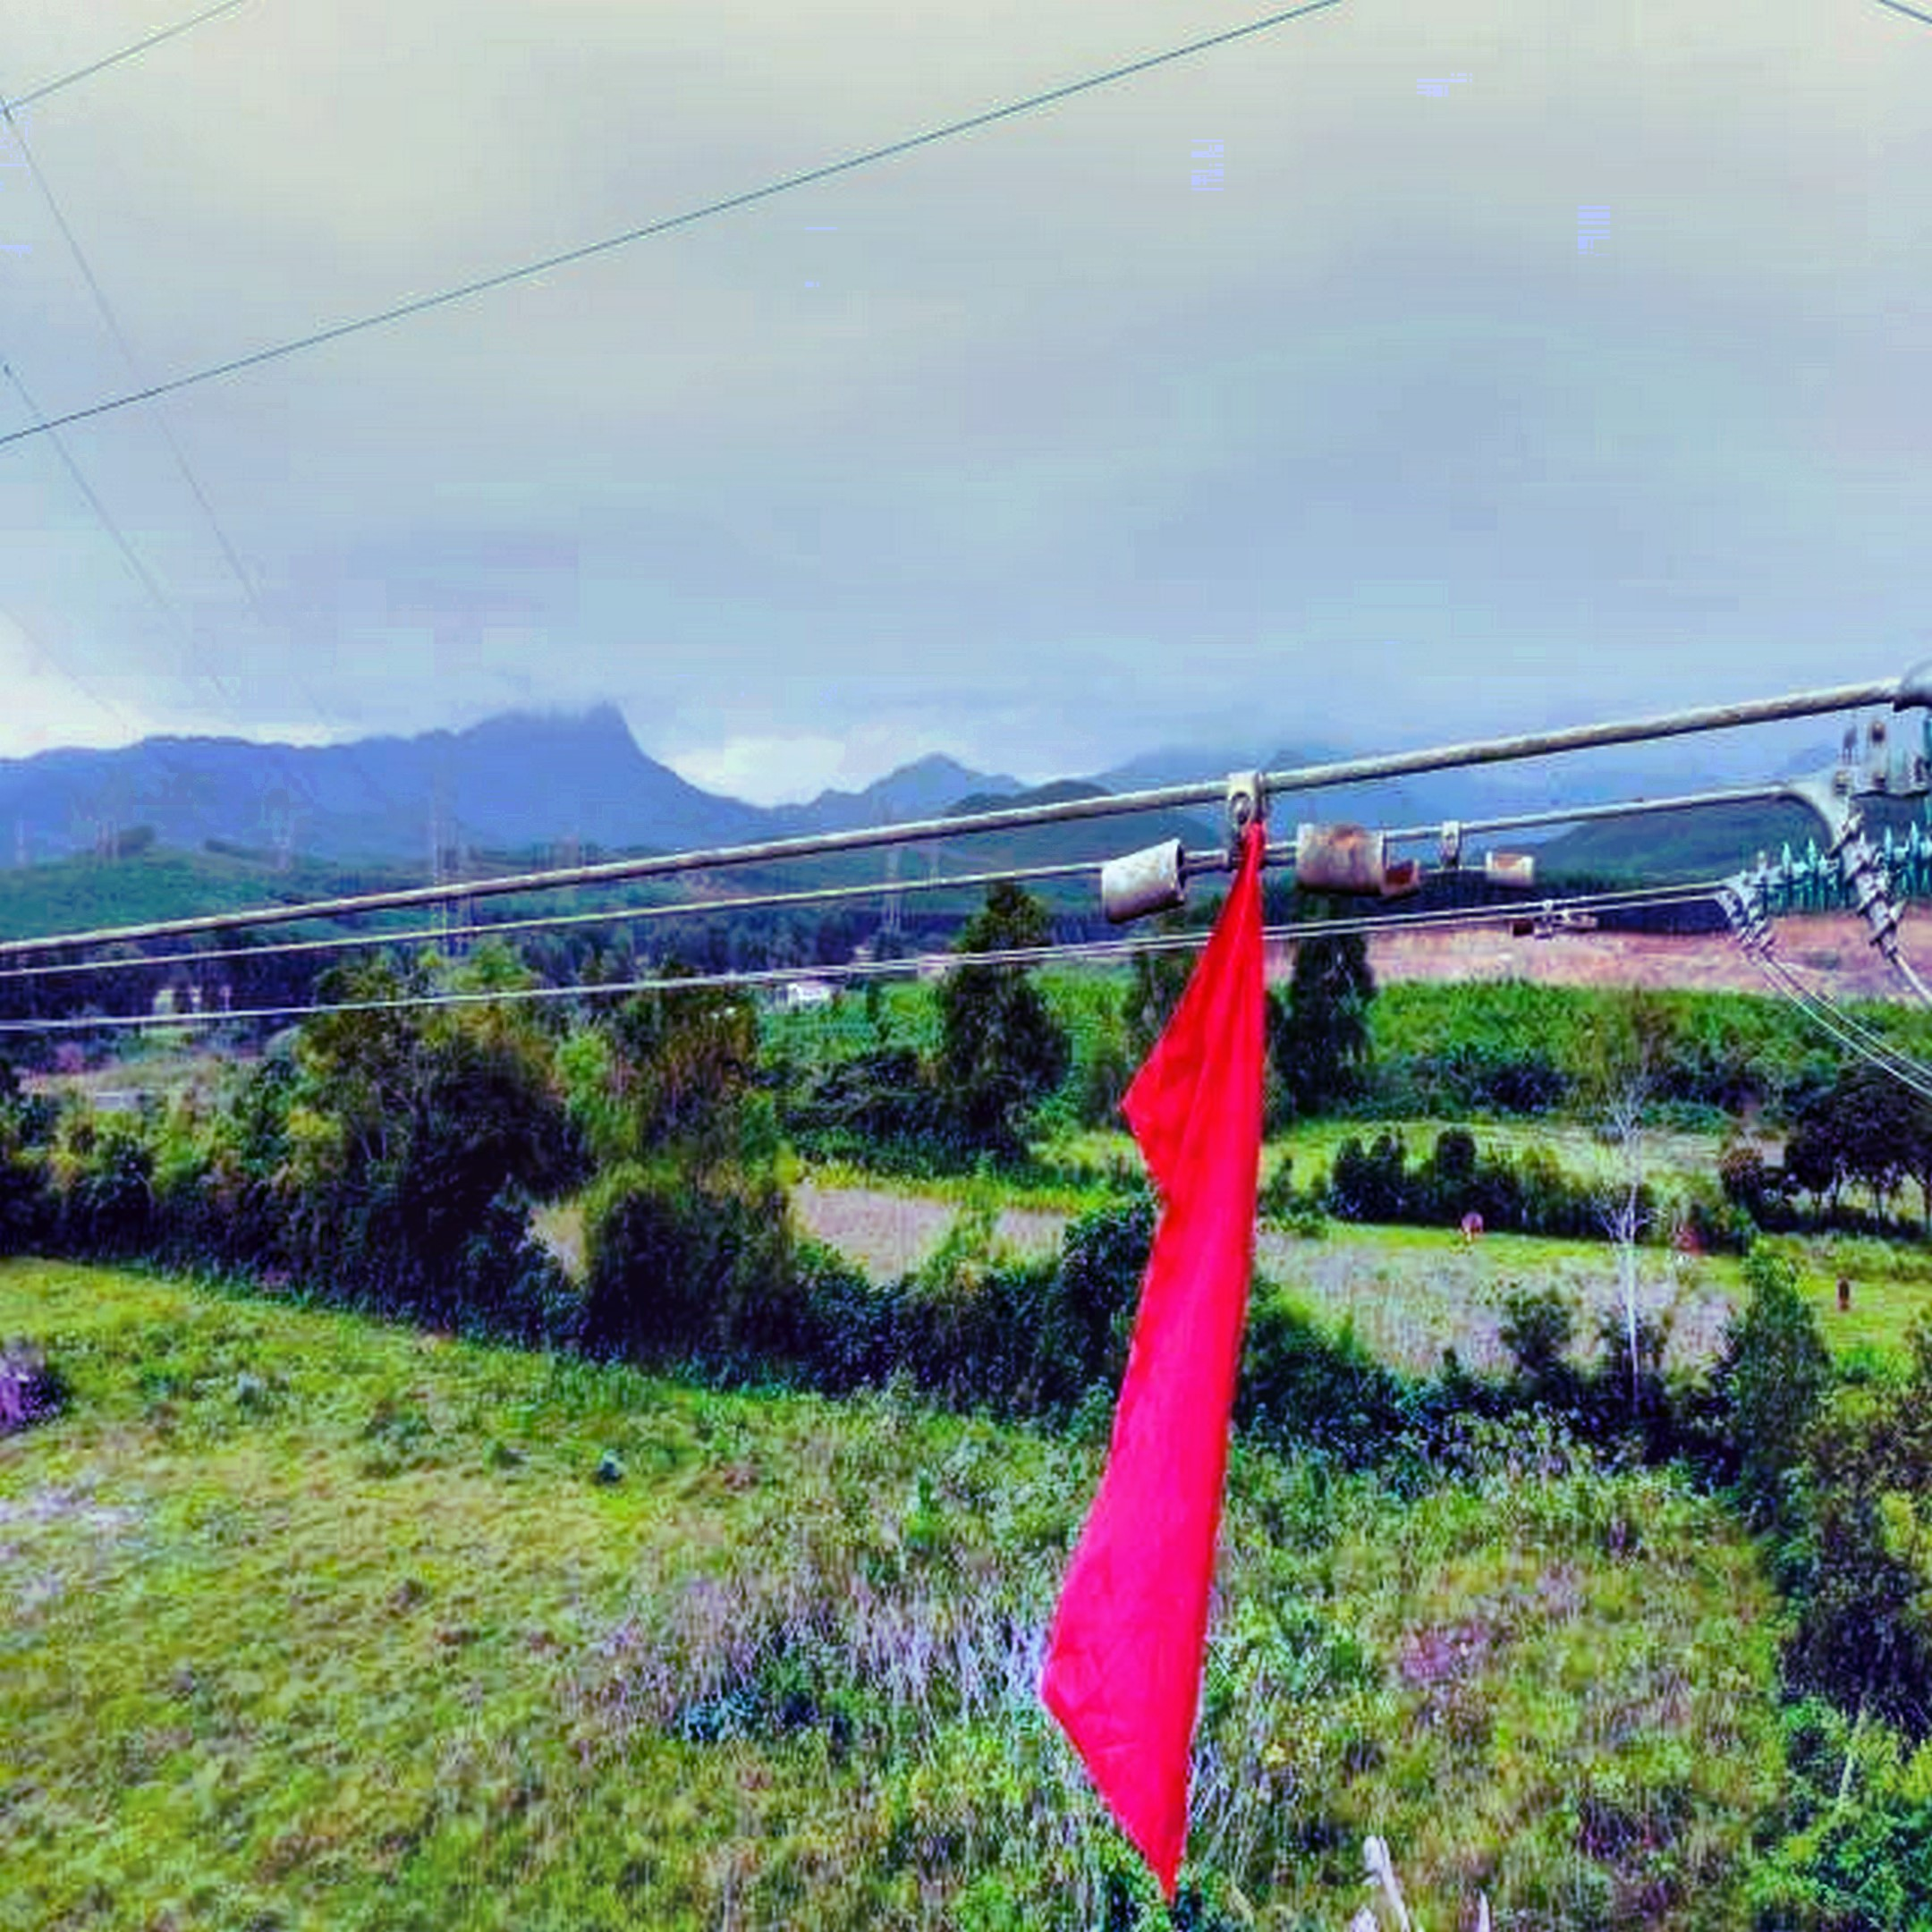wire foreign body: (1000, 754, 1338, 1882)
